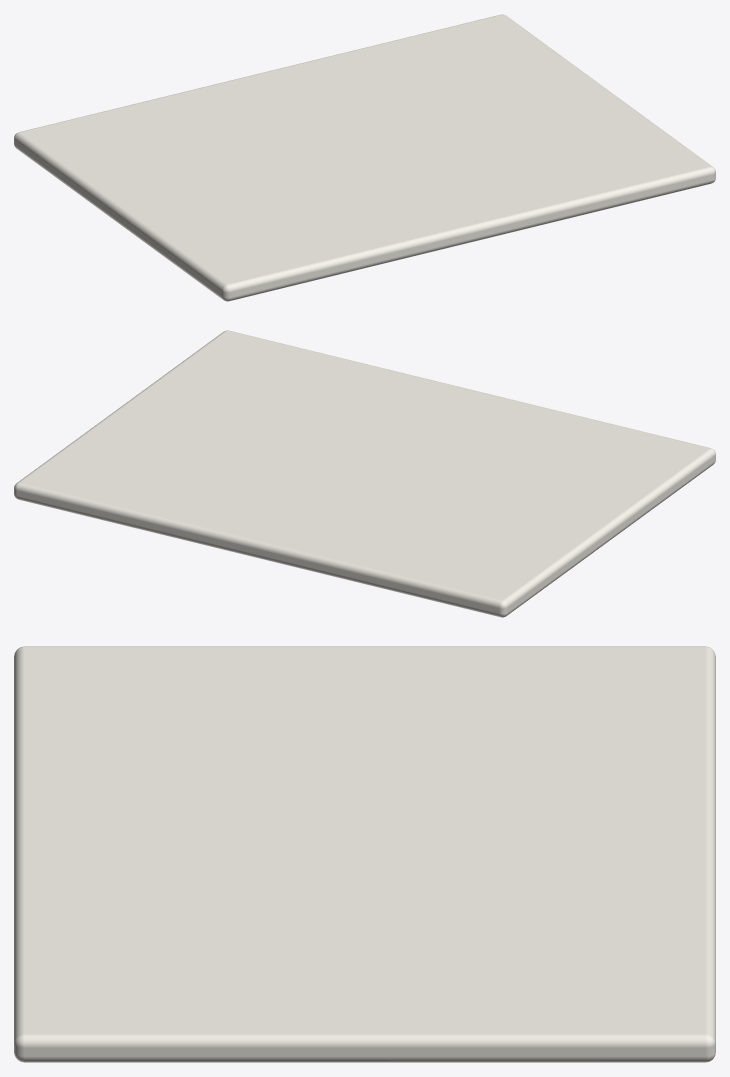
Rendered from SM_CuttingBoard.glb.
3 views of the same model, one above another, from view 1: azimuth 30°, elevation 25°; view 2: azimuth 150°, elevation 25°; view 3: azimuth 270°, elevation 25° (orthographic). The views are drawn at different scales.
Parts seen in each view (by area): view 1: SM_CuttingBoard; view 2: SM_CuttingBoard; view 3: SM_CuttingBoard.
Part boxes in pixels (box(x1,y1,x2,y2)): SM_CuttingBoard: box(14, 14, 715, 301); SM_CuttingBoard: box(14, 330, 715, 617); SM_CuttingBoard: box(14, 646, 715, 1062).
Bounding box in the file's own units: 0.8 × 0.026 × 0.6.
1 material, 1 textured.
